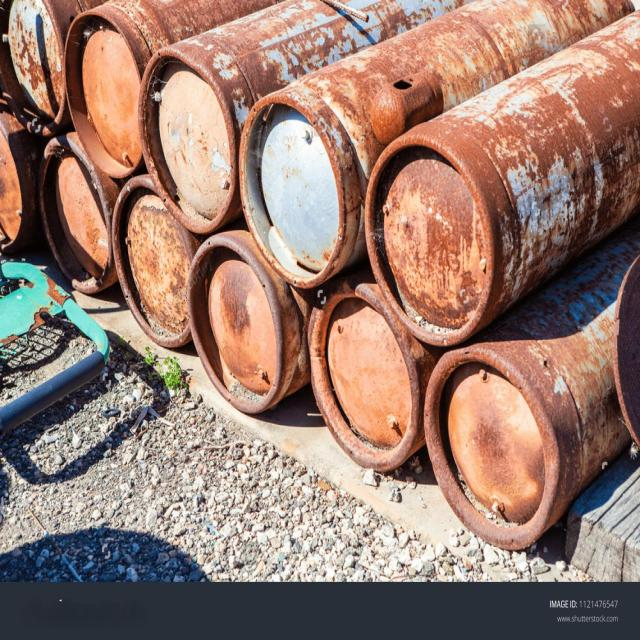Canisters: (240, 2, 635, 291), (362, 9, 640, 347), (136, 2, 460, 233), (425, 227, 634, 547), (60, 0, 292, 179)
